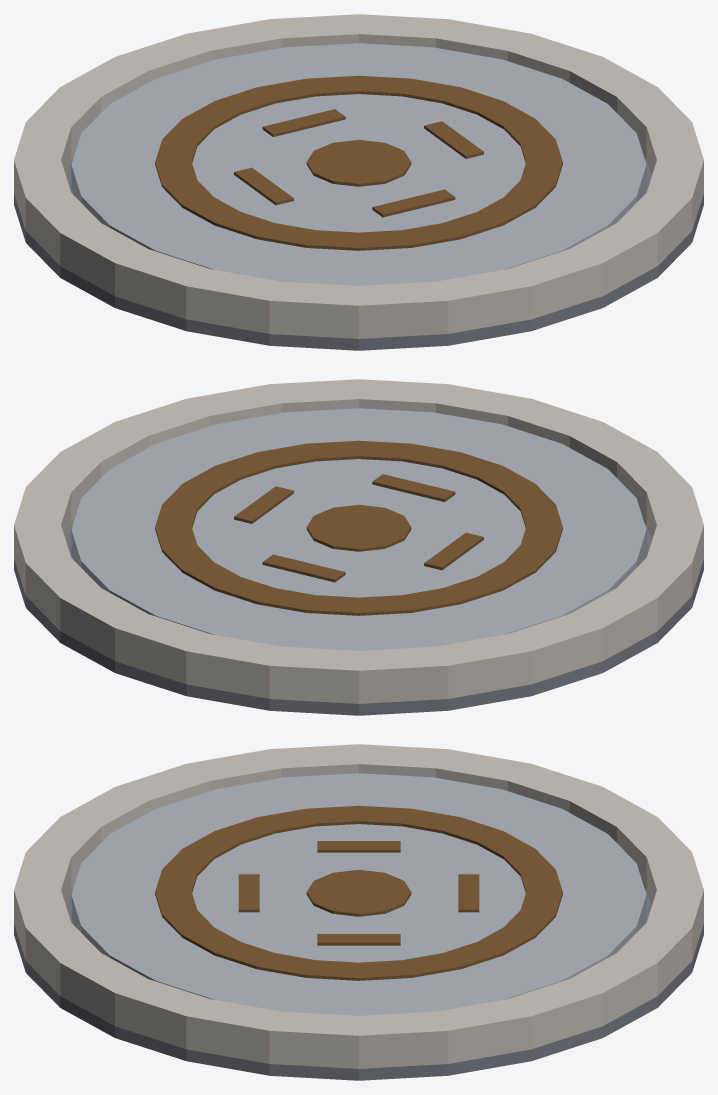
The model's file is PressurePlate.fbx.
The picture shows the model from 3 angles, top to bottom: view 1: azimuth 30°, elevation 25°; view 2: azimuth 150°, elevation 25°; view 3: azimuth 270°, elevation 25°; orthographic projection.
Parts seen in each view (by area): view 1: Disc, Frame; view 2: Disc, Frame; view 3: Disc, Frame.
Part boxes in pixels (left/top/right/bottom): Disc: left=71, top=43, right=646, bottom=285; Frame: left=14, top=14, right=703, bottom=350; Disc: left=71, top=408, right=646, bottom=650; Frame: left=14, top=379, right=703, bottom=715; Disc: left=71, top=773, right=646, bottom=1015; Frame: left=14, top=744, right=703, bottom=1080.
Bounding box in the file's own units: 2.64 × 0.19 × 2.64.
